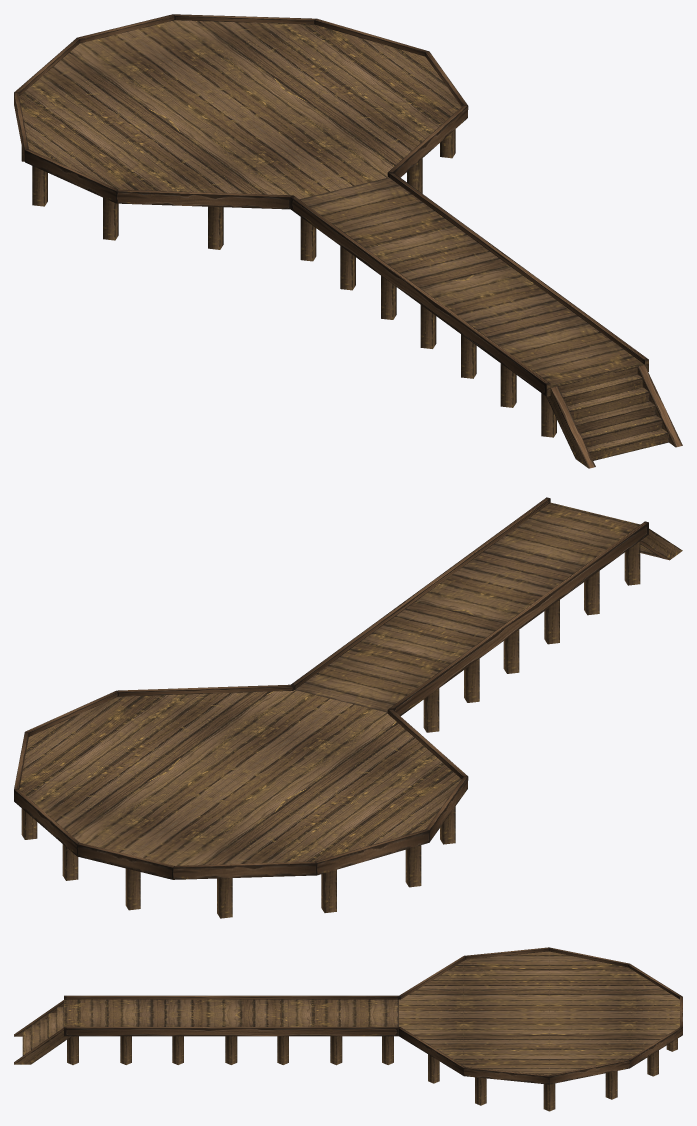
Rendered from Deck_04.fbx.
3 views of the same model, one above another, from view 1: azimuth 30°, elevation 25°; view 2: azimuth 150°, elevation 25°; view 3: azimuth 270°, elevation 25° (orthographic). The views are drawn at different scales.
Parts seen in each view (by area): view 1: Deck_04; view 2: Deck_04; view 3: Deck_04.
Part boxes in pixels (x1,y1,x2,y2): Deck_04: (14, 14, 682, 468); Deck_04: (14, 497, 682, 918); Deck_04: (14, 947, 682, 1111).
Size of the model in its own units: 2.79 by 0.3775 by 6.11.
